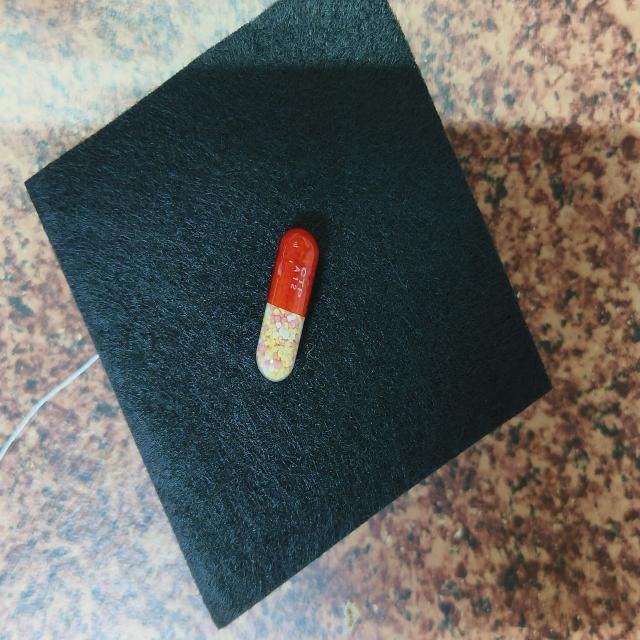Intact Capsule: (256, 228, 319, 381)
